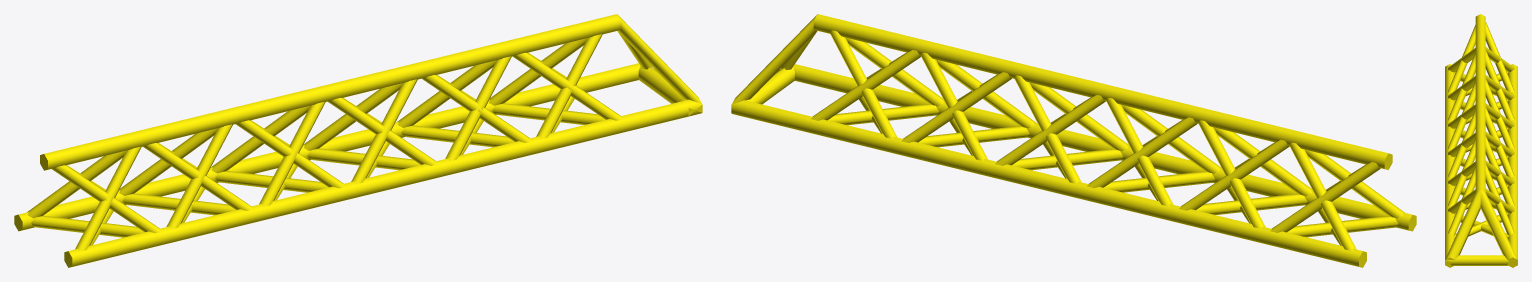
Rendered from CraneTop.fbx.
The picture shows the model from 3 angles, left to right: view 1: azimuth 30°, elevation 25°; view 2: azimuth 150°, elevation 25°; view 3: azimuth 270°, elevation 25°; orthographic projection. The views are drawn at different scales.
Visible parts, largest first — view 1: SupportBeam; view 2: SupportBeam; view 3: SupportBeam.
Part boxes in pixels (left/top/right/bottom): SupportBeam: left=14, top=14, right=702, bottom=267; SupportBeam: left=731, top=14, right=1416, bottom=267; SupportBeam: left=1445, top=14, right=1517, bottom=267.
Size of the model in its own units: 5833 by 853 by 930.
